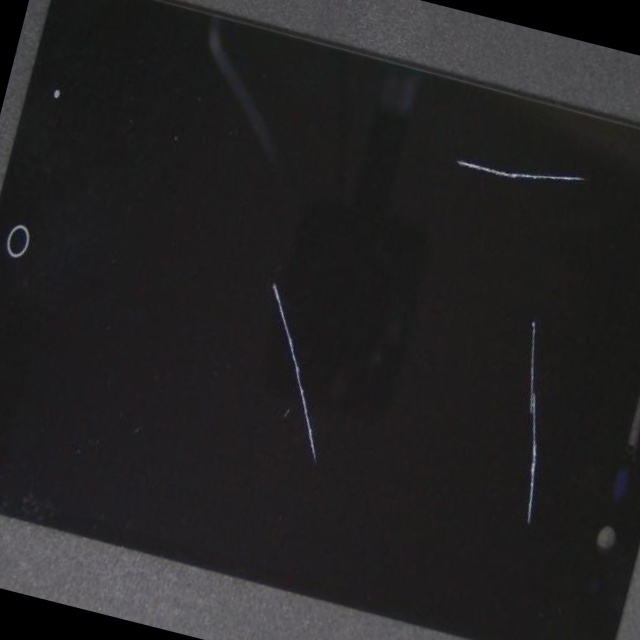scratch: (89, 38, 480, 476), (332, 50, 640, 277)
